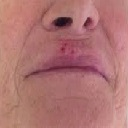Carcinoma: (57, 42, 74, 53)
